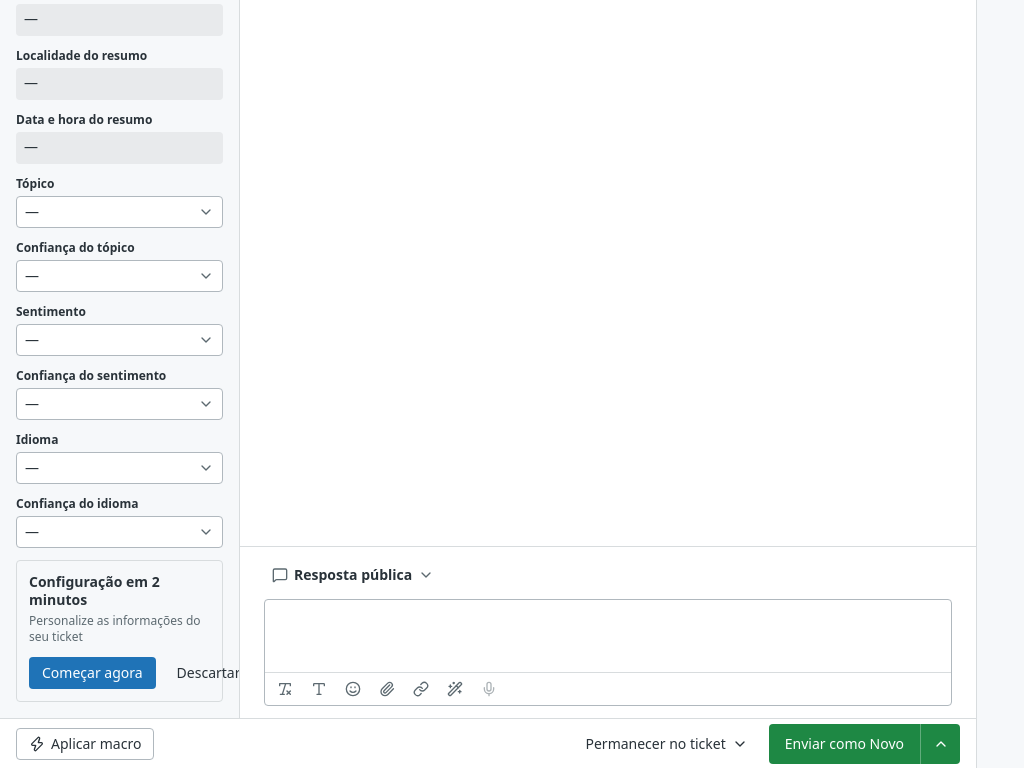
Test: BottomBar: envio › ticket novo lista Novo, Aberto, Em andamento, Pendente, Resolvido
(page scrolled)
Click the button named "Escolher status de envio": (940, 744) [920, 724, 960, 764]
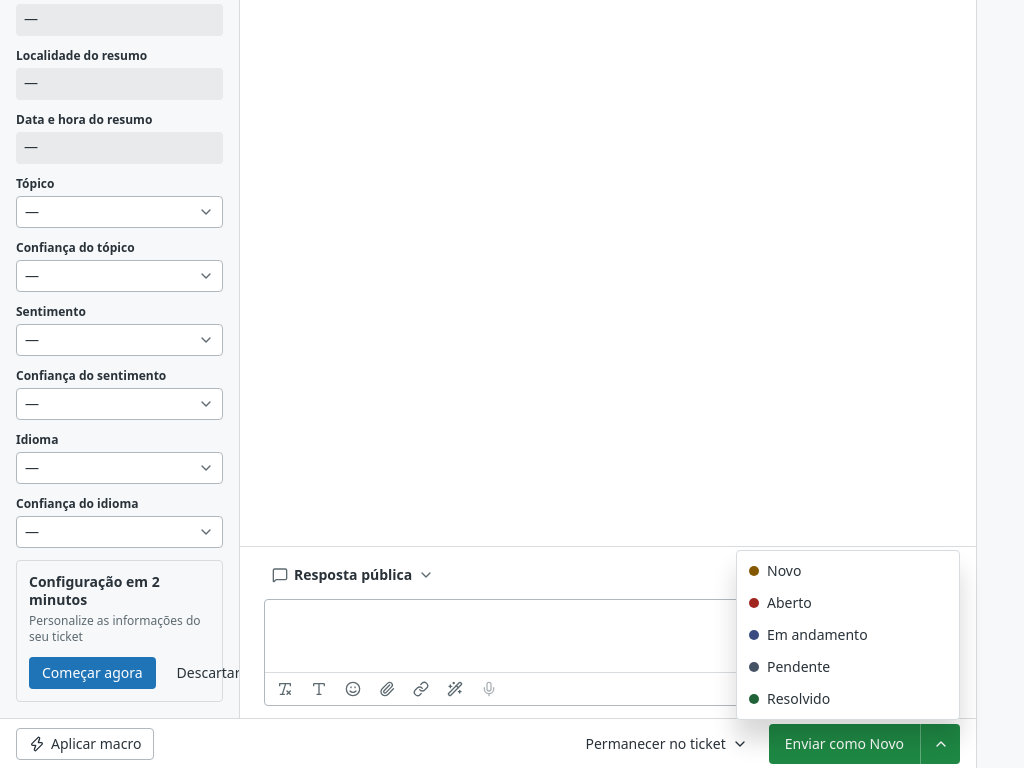
Check: the menu items read "Novo", "Aberto", "Em andamento", "Pendente", "Resolvido", in this order, box [749, 561, 801, 580]; [749, 593, 812, 612]; [749, 625, 868, 644]; [749, 657, 830, 676]; [749, 689, 830, 708]
